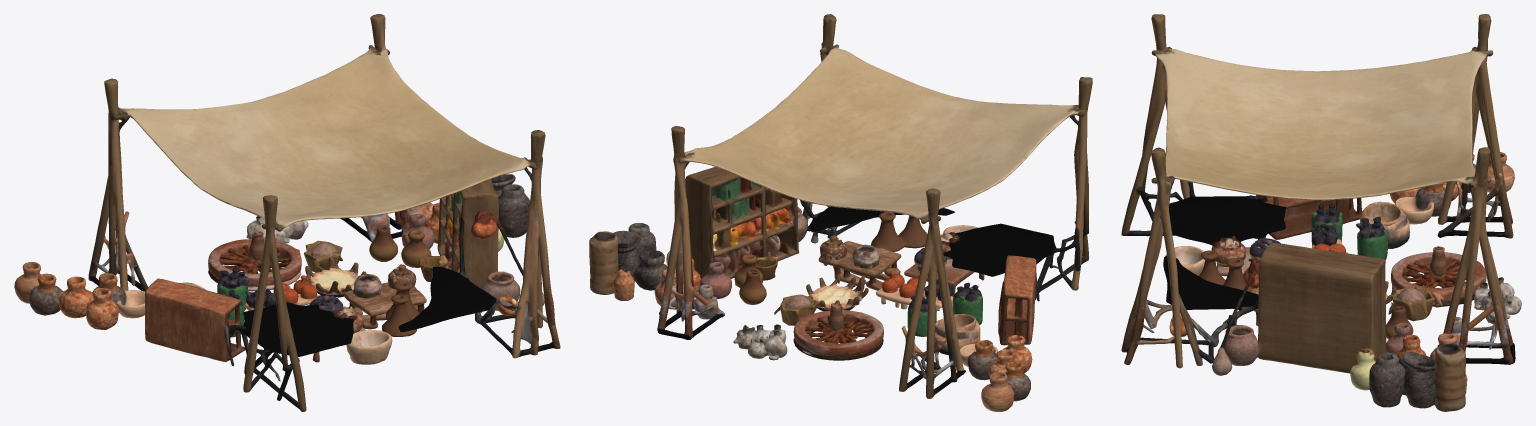
File: kiosk.glb
3 renders of one model, left to right at view 1: azimuth 30°, elevation 25°; view 2: azimuth 150°, elevation 25°; view 3: azimuth 270°, elevation 25°, orthographic. The views are drawn at different scales.
Parts seen in each view (by area): view 1: part0; view 2: part0; view 3: part0.
Boxes of the visible parts, x1,y1,x2,y2 form: part0: (14, 14, 560, 411); part0: (589, 14, 1092, 411); part0: (1121, 14, 1521, 411).
Bounding box in the file's own units: 1 × 0.4288 × 0.731.
Materials: 1 (1 with a texture image).
